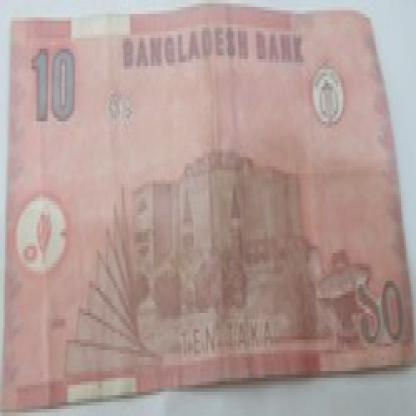Ten Taka: (27, 35, 83, 132), (351, 274, 411, 350)
